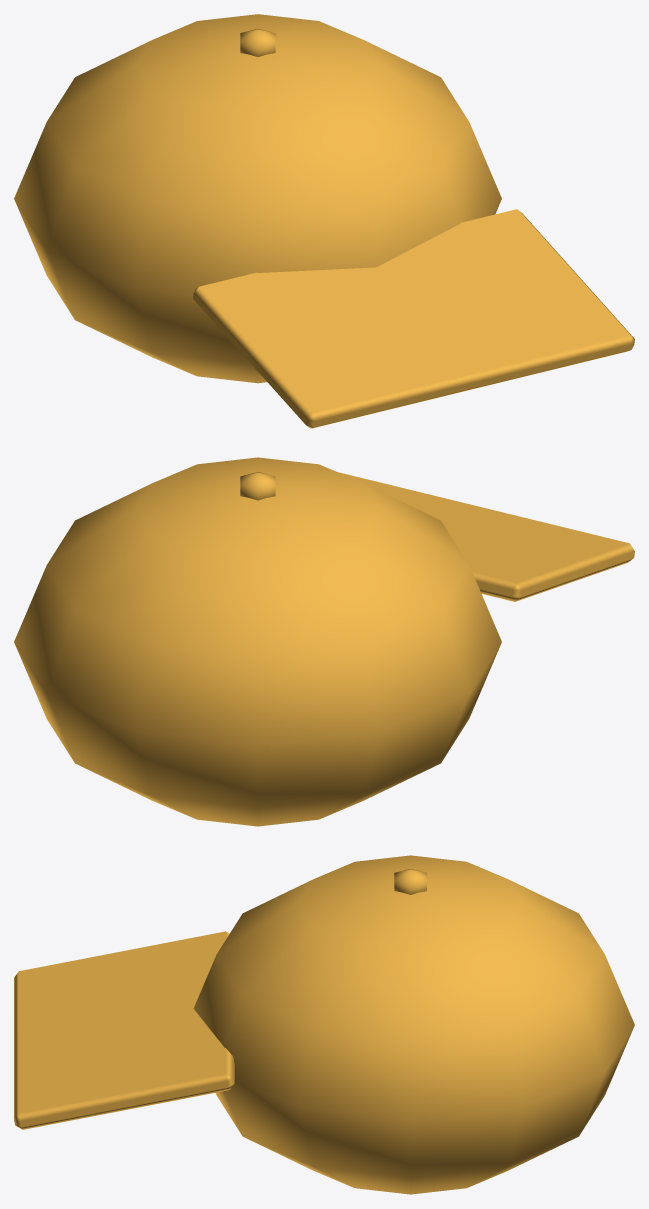
Rendered from CM_Accessory_Cap_Yellow.fbx.
3 renders of one model, top to bottom at view 1: azimuth 30°, elevation 25°; view 2: azimuth 150°, elevation 25°; view 3: azimuth 270°, elevation 25°, orthographic. The views are drawn at different scales.
Parts seen in each view (by area): view 1: Handle; view 2: Handle; view 3: Handle.
Boxes of the visible parts, box(x1,y1,x2,y2) form: Handle: box(14, 14, 634, 428); Handle: box(14, 457, 634, 826); Handle: box(14, 855, 634, 1194).
Bounding box in the file's own units: 1.44 × 1.99 × 1.05.
Materials: 1 (1 with a texture image).
